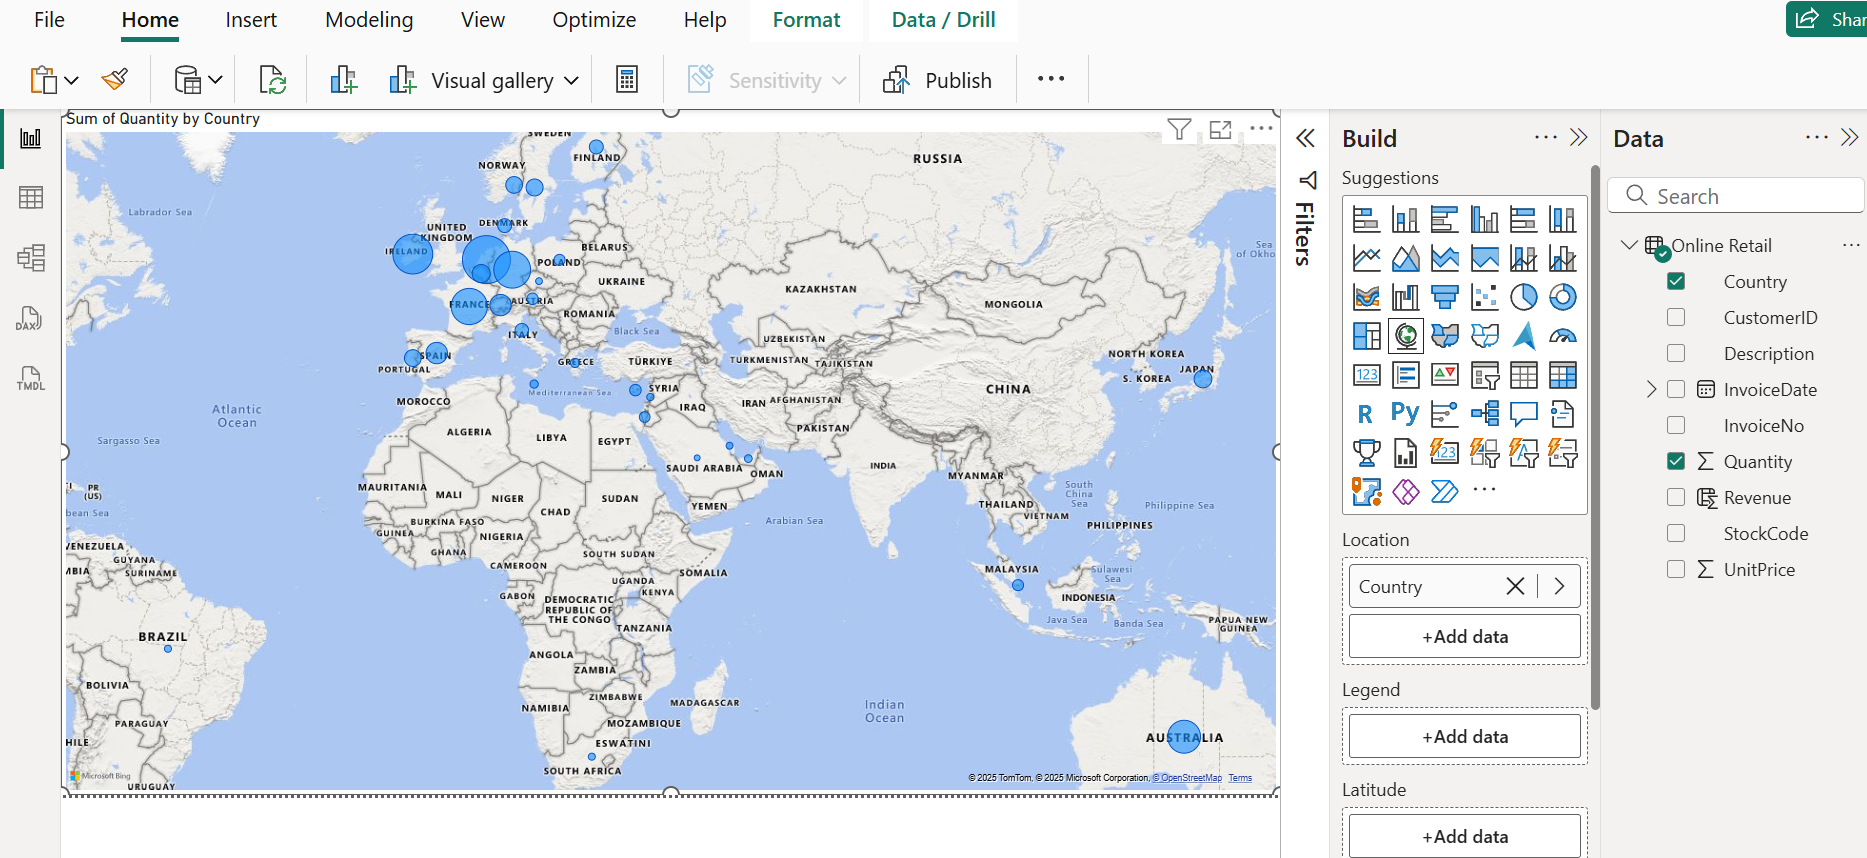

What the dashboard file says about the page in this screenshot:
{"tool":"powerbi","page":{"name":"Page 4","canvas":[1280,720],"ordinal":3},"visuals":[{"type":"map","fields":{"Category":["Online Retail.Country"],"Size":["Sum(Online Retail.Quantity)"]},"box":[72.3,17,1208.5,702.1],"z":0}]}

Visuals, with their boxes on the page's 1280x720 design canvas (x1, y1, x2, y2). These are canvas units, not pixel positions in the 1867x858 screenshot, which may show the page scaled, cropped or inside an application window:
map - Online Retail.Country x Sum(Online Retail.Quantity): (72, 17, 1281, 719)
